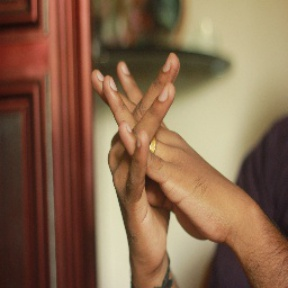W: (82, 46, 216, 221)
